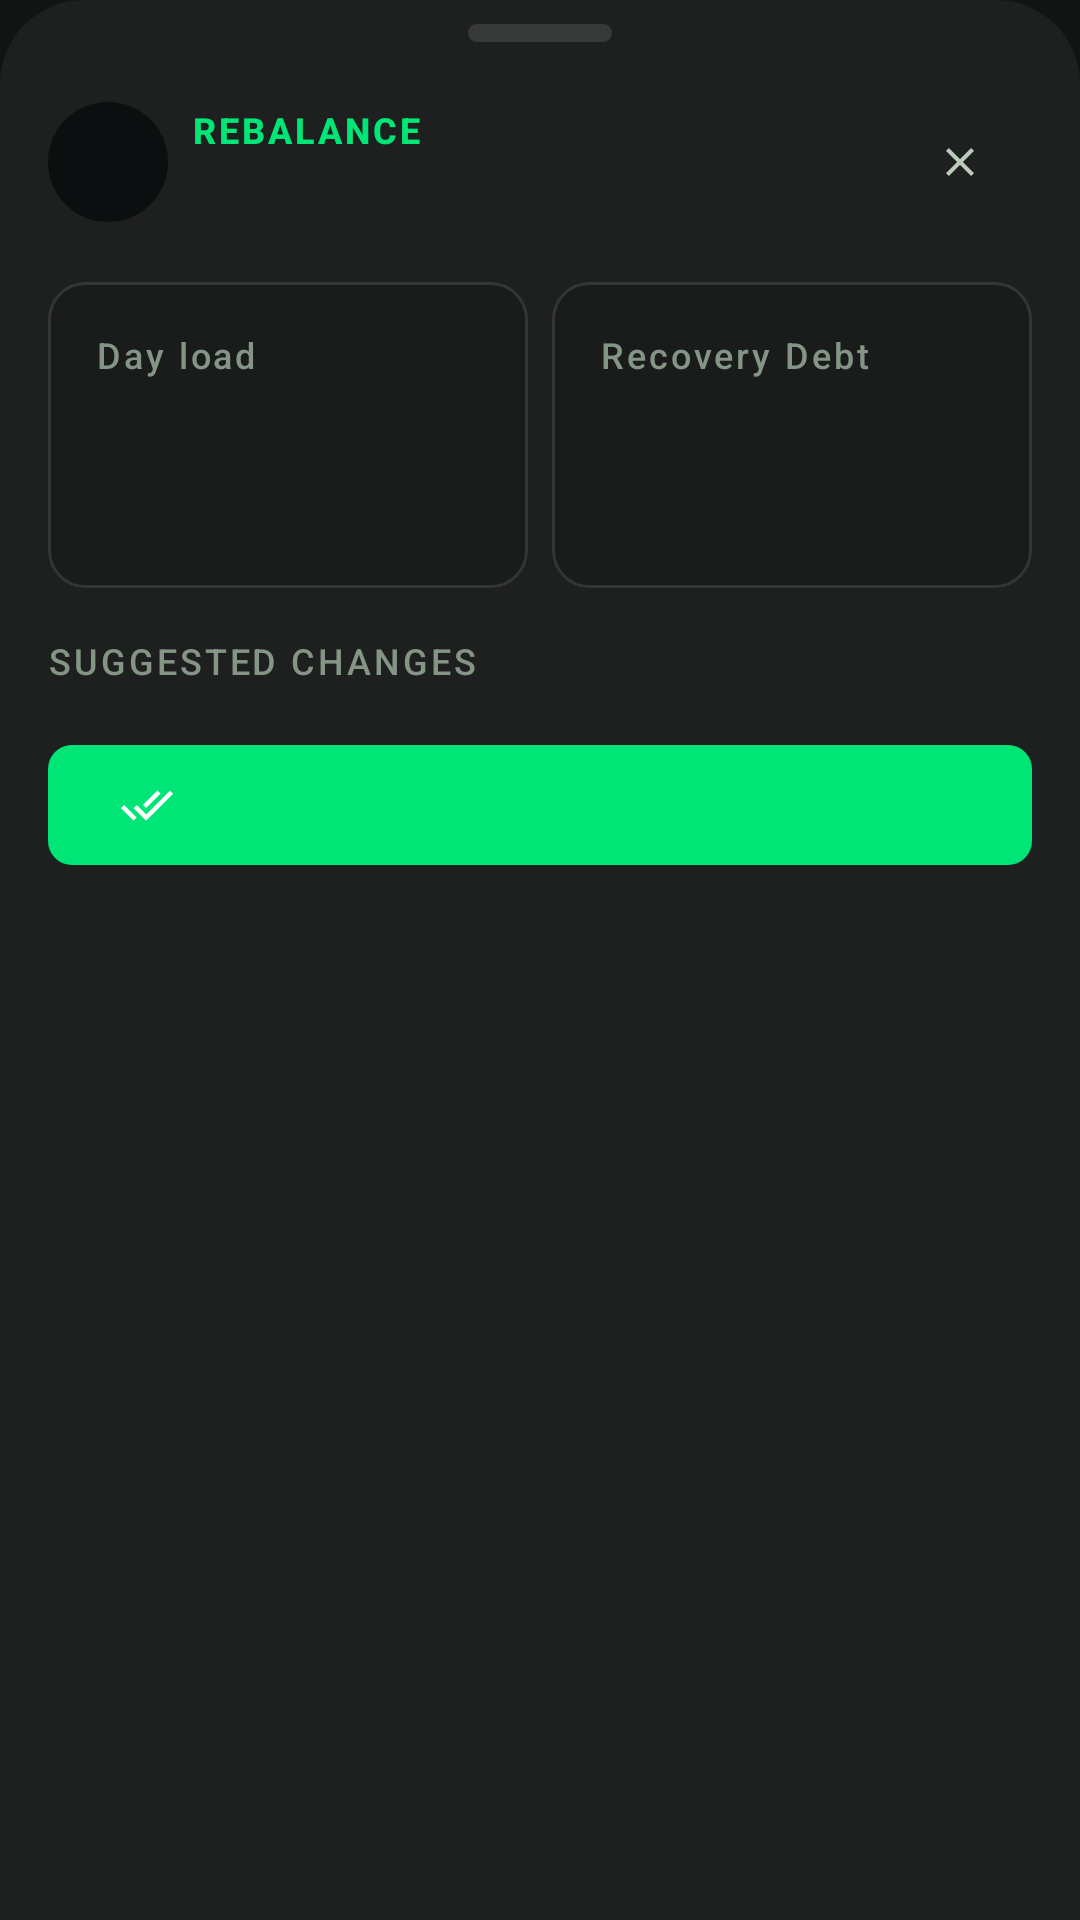

Icons on this 1080*1920 Android screen, each with its box as (x1, y1, x2, y2):
Close: (946, 148, 974, 176)
